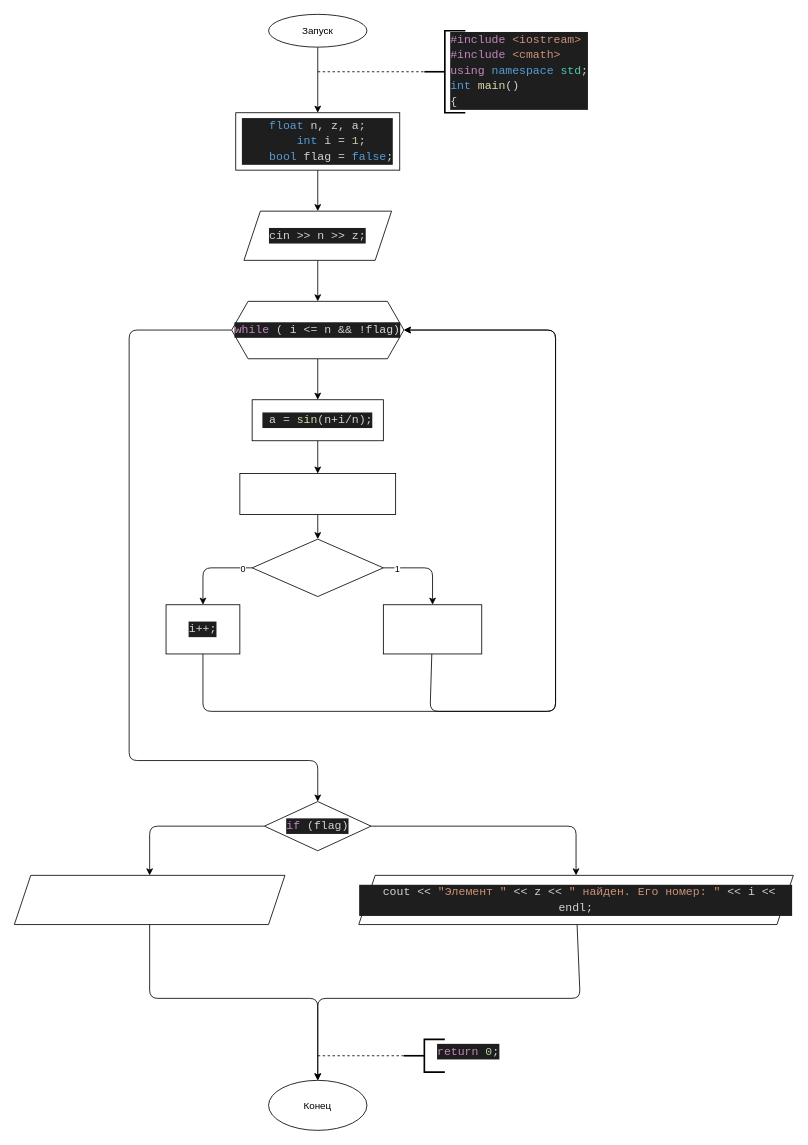
Image size: 808x1145. Some labels were removed from this diagram. The centre of each missing label's shape, as x and y in pixels:
a = round (a* 10 ) / 10 ;: (x=317, y=494)
cout << "Элемент не найден!" << endl;: (x=149, y=900)
flag = true ;: (x=432, y=629)
if (a == z): (x=317, y=567)
